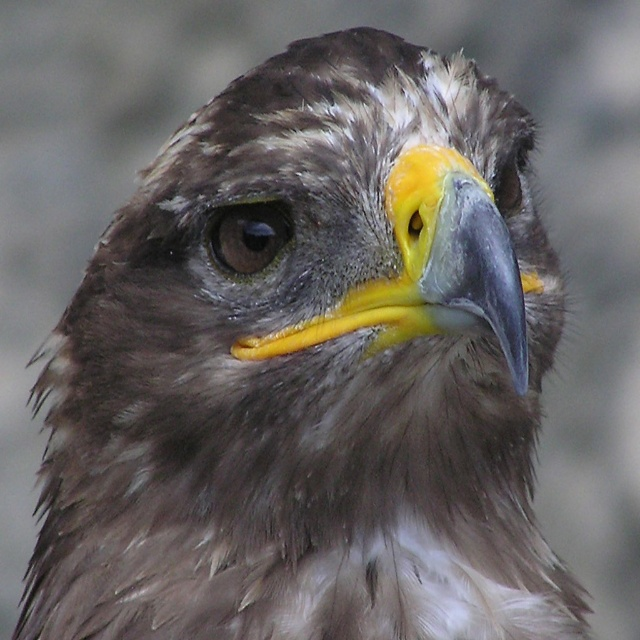Eagle: (7, 23, 599, 639)
